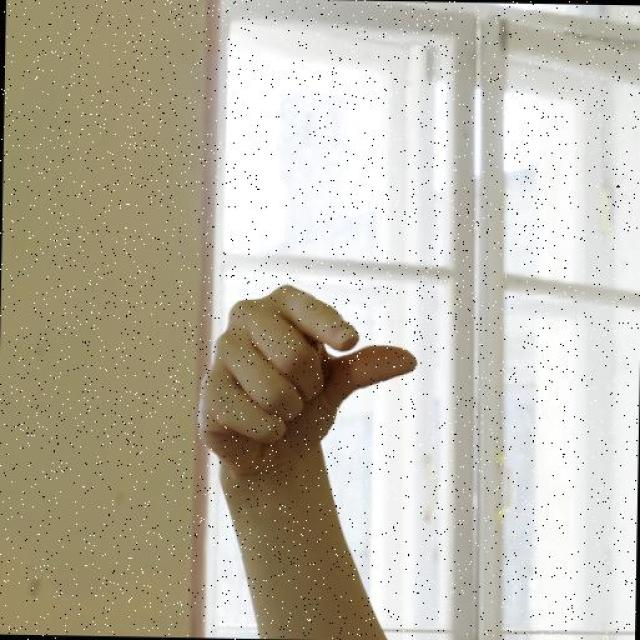G: (195, 280, 420, 476)
